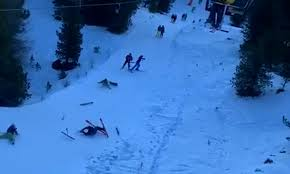skier: (129, 53, 150, 74), (120, 51, 134, 74)
